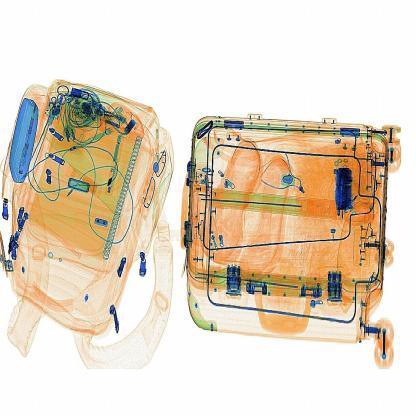scissors: (334, 155, 366, 229)
